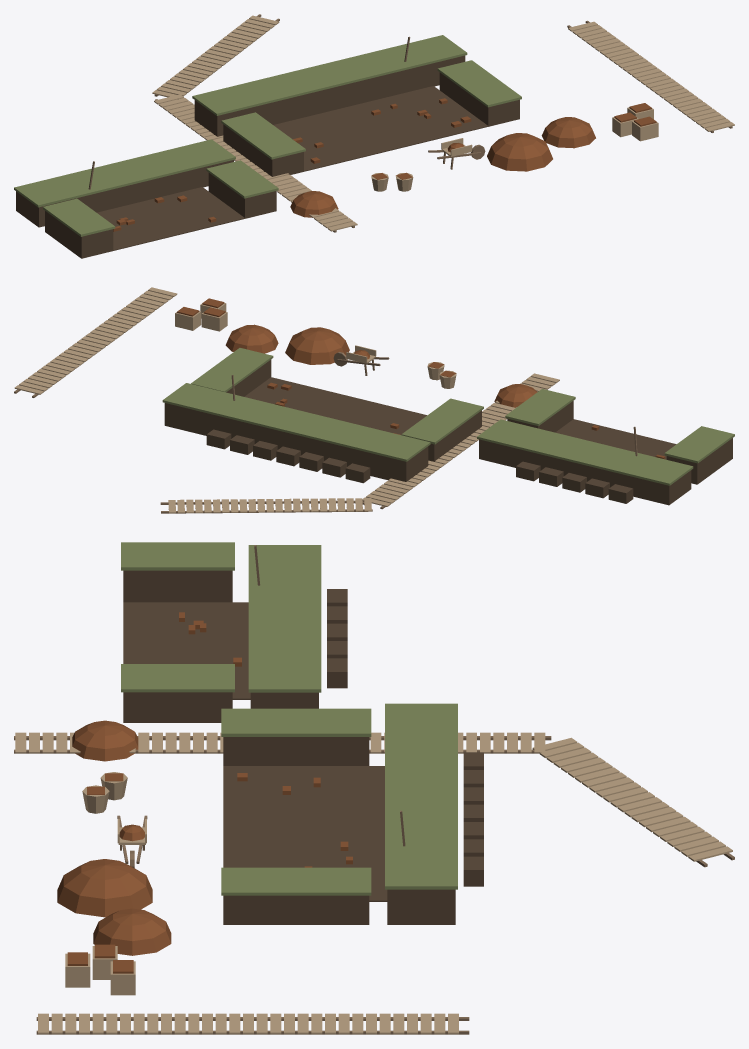
File: bog_works.glb
3 views of the same model, one above another, from view 1: azimuth 30°, elevation 25°; view 2: azimuth 150°, elevation 25°; view 3: azimuth 270°, elevation 25° (orthographic). The views are drawn at different scales.
Visible parts, largest first — view 1: BogWorks; view 2: BogWorks; view 3: BogWorks.
Boxes of the visible parts, x1,y1,x2,y2 form: BogWorks: (14,14,734,258); BogWorks: (14,287,734,513); BogWorks: (14,542,734,1034).
Bounding box in the file's own units: 23.75 × 1.86 × 15.83.
